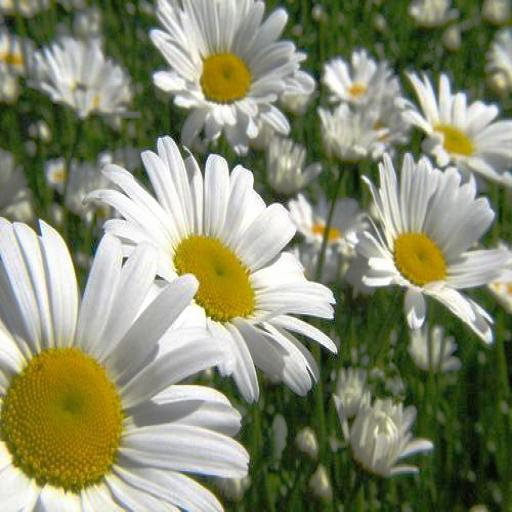daisy: (110, 166, 326, 362), (352, 160, 512, 306), (410, 71, 512, 170), (292, 188, 368, 248), (354, 386, 410, 467), (46, 42, 106, 108), (323, 102, 380, 157), (358, 96, 408, 156), (325, 57, 386, 97)
